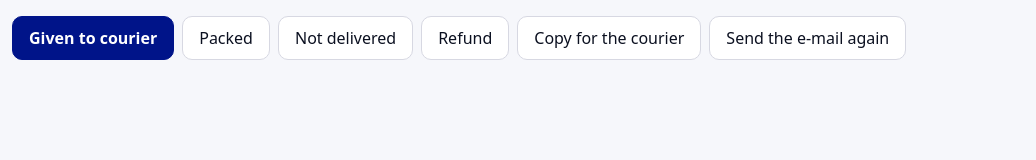
it: a step is one call and refreshes the card › packed: sends the step and says what it is now
Click the button "Packed": click(226, 38) x1=182 y1=16 x2=270 y2=60
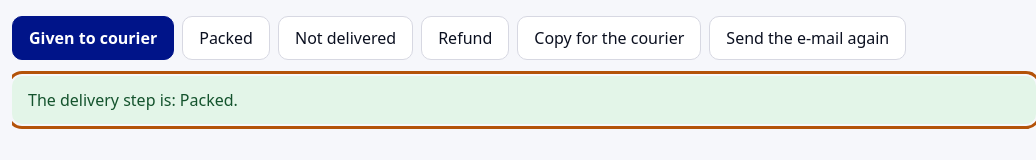
Now the message "The delivery step is: Packed." is shown, box x1=12 y1=76 x2=1035 y2=124
